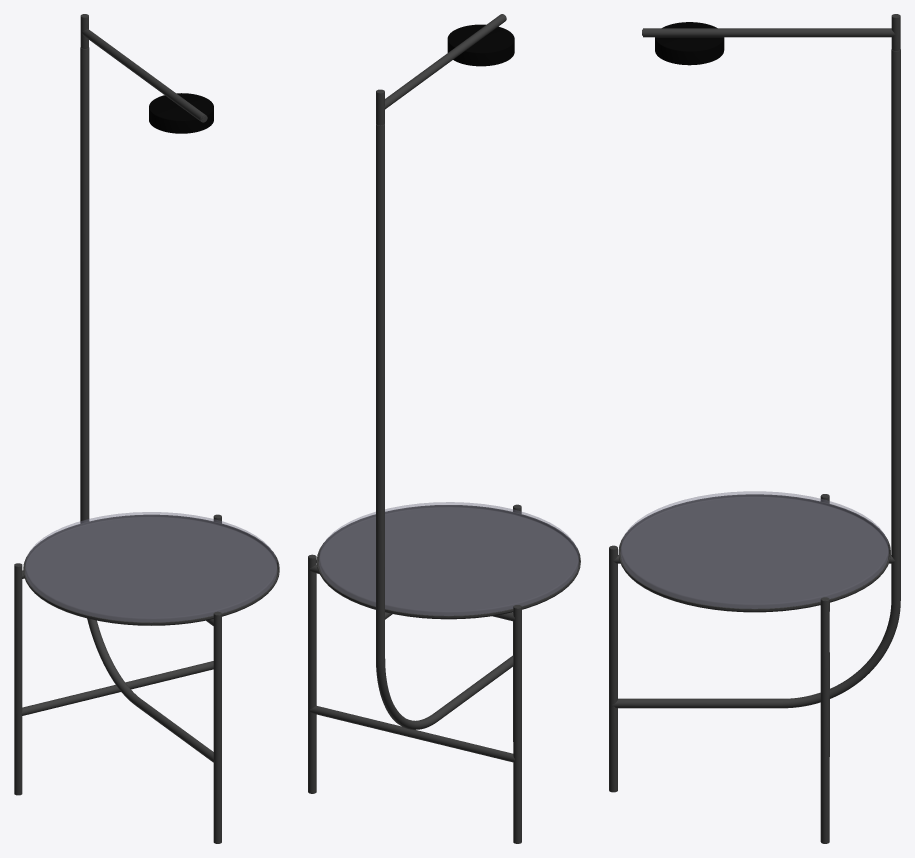
The model's file is lamp-igram-table.glb.
3 views of the same model, side by side, from view 1: azimuth 30°, elevation 25°; view 2: azimuth 150°, elevation 25°; view 3: azimuth 270°, elevation 25° (orthographic). The views are drawn at different scales.
Visible parts, largest first — view 1: Cylinder002, Cylinder001, Line001, Cylinder038.002, Cylinder038.001, Cylinder024, Cylinder039, Cylinder044; view 2: Cylinder002, Cylinder001, Line001, Cylinder038.002, Cylinder038, Cylinder024, Cylinder039, Cylinder044; view 3: Cylinder002, Cylinder001, Line001, Cylinder044, Cylinder038, Cylinder038.001, Cylinder024.
Boxes of the visible parts, x1,y1,x2,y2 form: Cylinder002: (23,514,279,625); Cylinder001: (25,512,276,622); Line001: (80,47,214,762); Cylinder038.002: (14,564,22,795); Cylinder038.001: (213,613,221,843); Cylinder024: (149,93,213,133); Cylinder039: (21,661,213,715); Cylinder044: (82,29,207,122); Cylinder002: (316,505,580,619); Cylinder001: (319,502,578,615); Line001: (376,124,513,729); Cylinder038.002: (513,606,521,843); Cylinder038: (308,556,316,793); Cylinder024: (447,24,514,66); Cylinder039: (310,705,514,762); Cylinder044: (384,14,506,109); Cylinder002: (618,494,890,612); Cylinder001: (621,491,888,608); Line001: (612,49,900,708); Cylinder044: (643,28,895,37); Cylinder038: (820,599,829,843); Cylinder038.001: (609,547,617,792); Cylinder024: (655,22,724,65).
Bounding box in the file's own units: 0.4061 × 1.28 × 0.4346.
